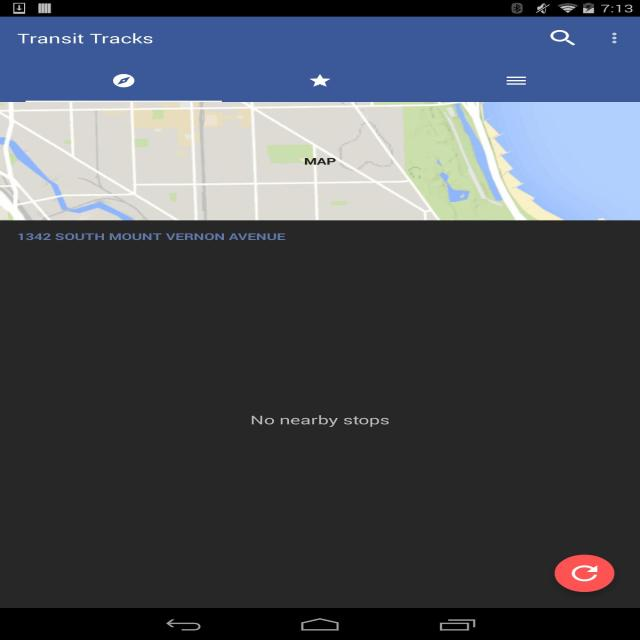button: (231, 65, 433, 102), (30, 64, 218, 102), (450, 66, 621, 99), (554, 553, 614, 594), (542, 27, 582, 51), (605, 28, 625, 49)
heading: (15, 30, 156, 48)
image: (0, 101, 640, 219)
text: (13, 232, 292, 244), (248, 413, 394, 429)
